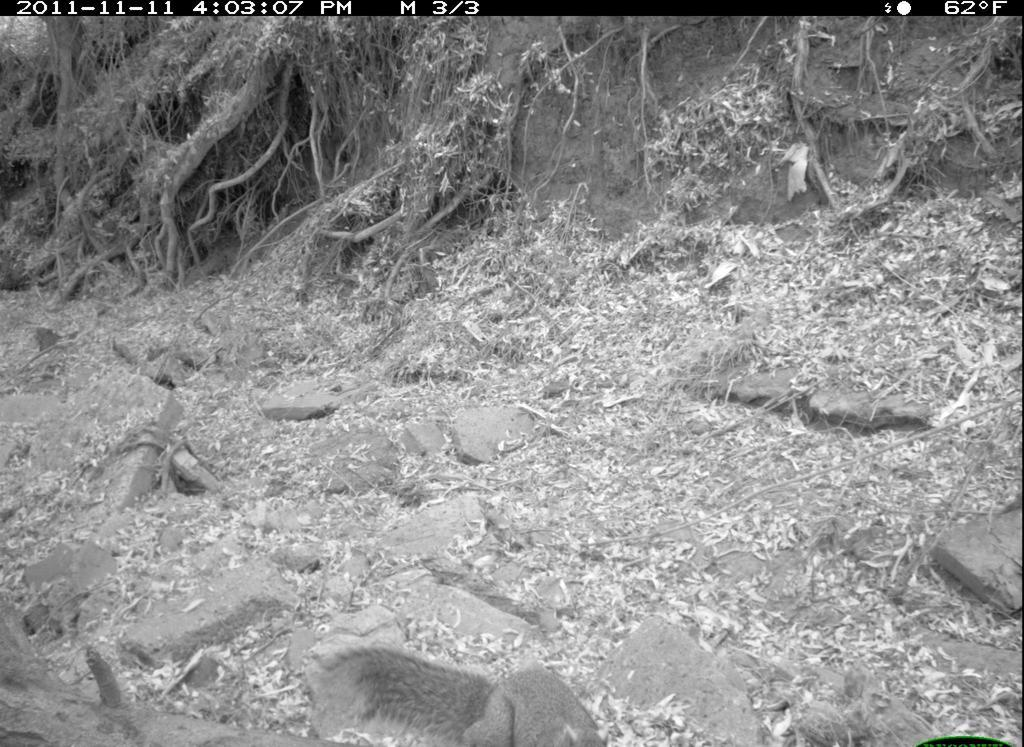squirrel: (301, 644, 611, 747)
